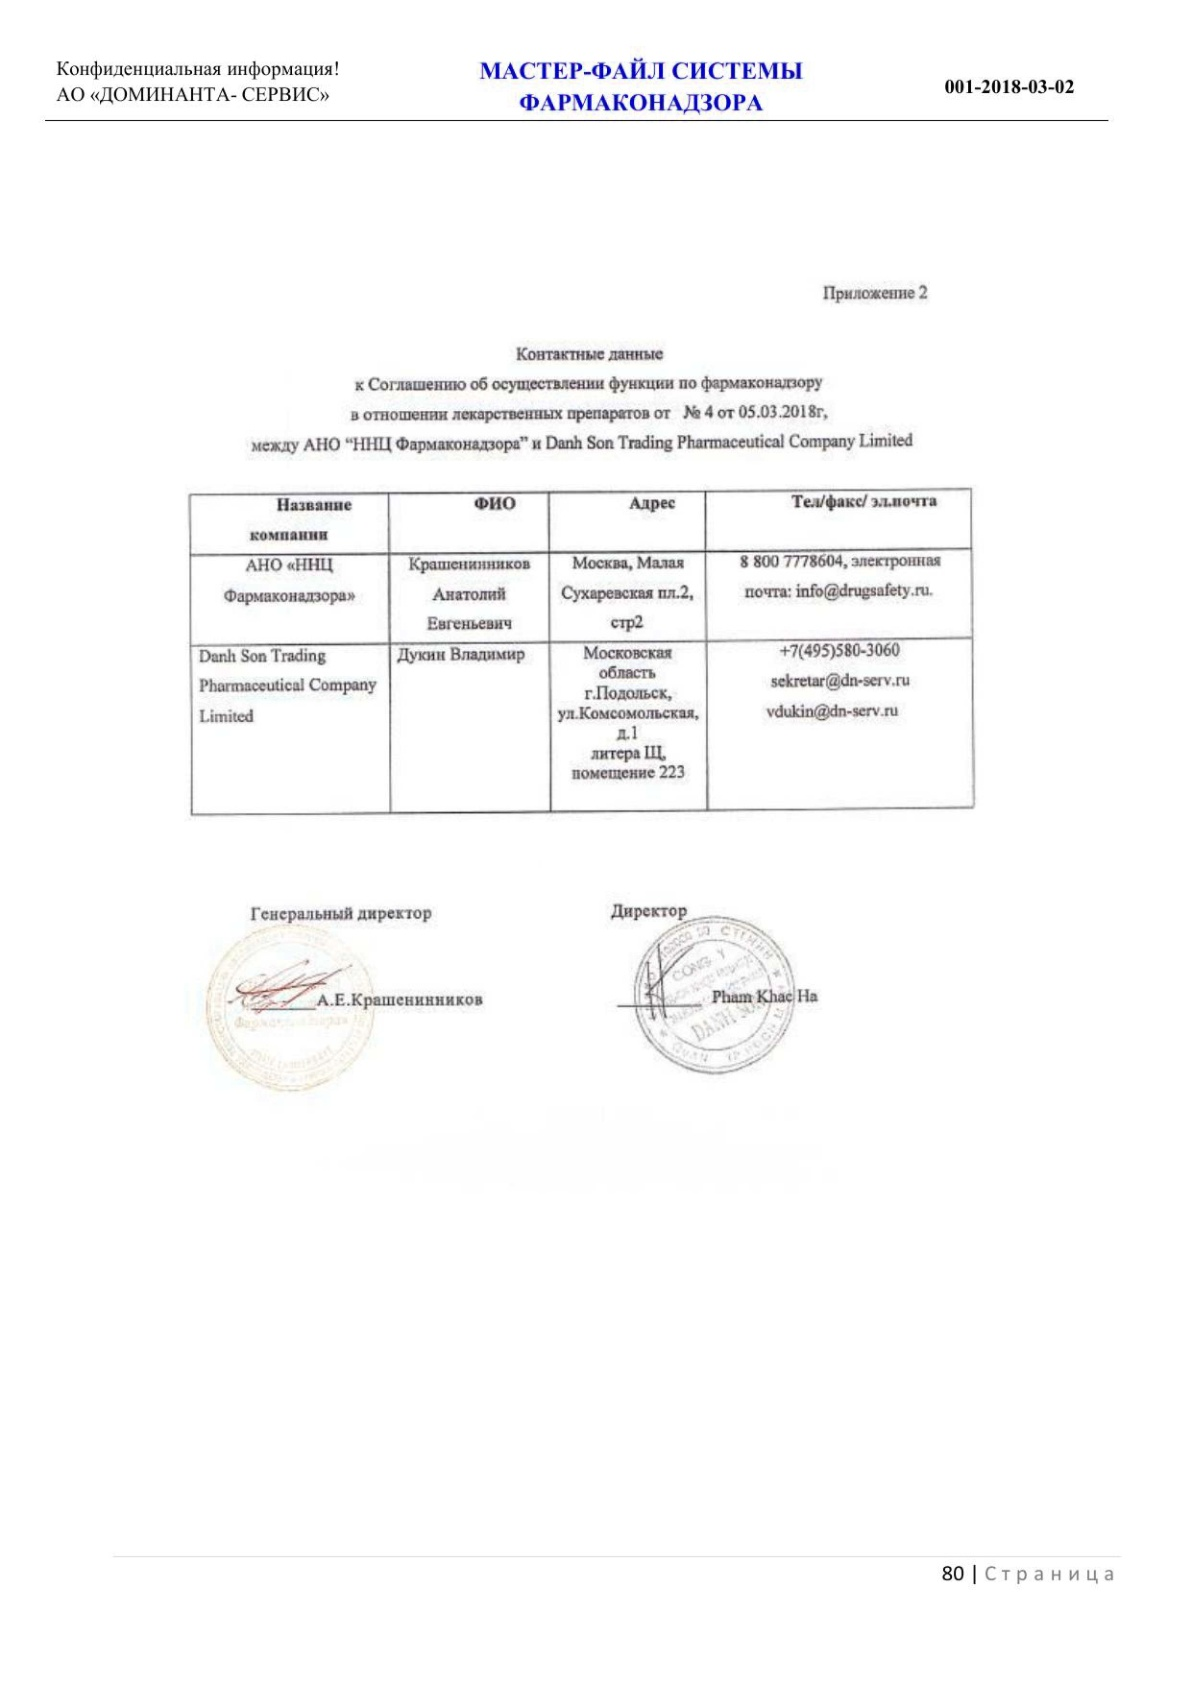full_lined: (186, 485, 977, 819)
